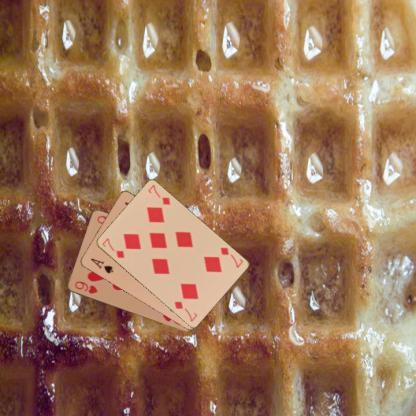7d: (218, 245, 245, 270), (100, 235, 126, 260)
9h: (72, 278, 98, 296)
As: (88, 255, 114, 275)
